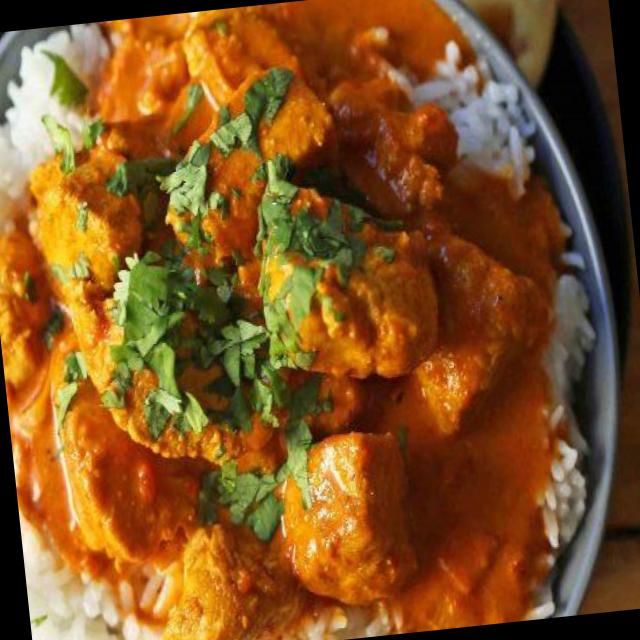chicken: (35, 10, 555, 640)
